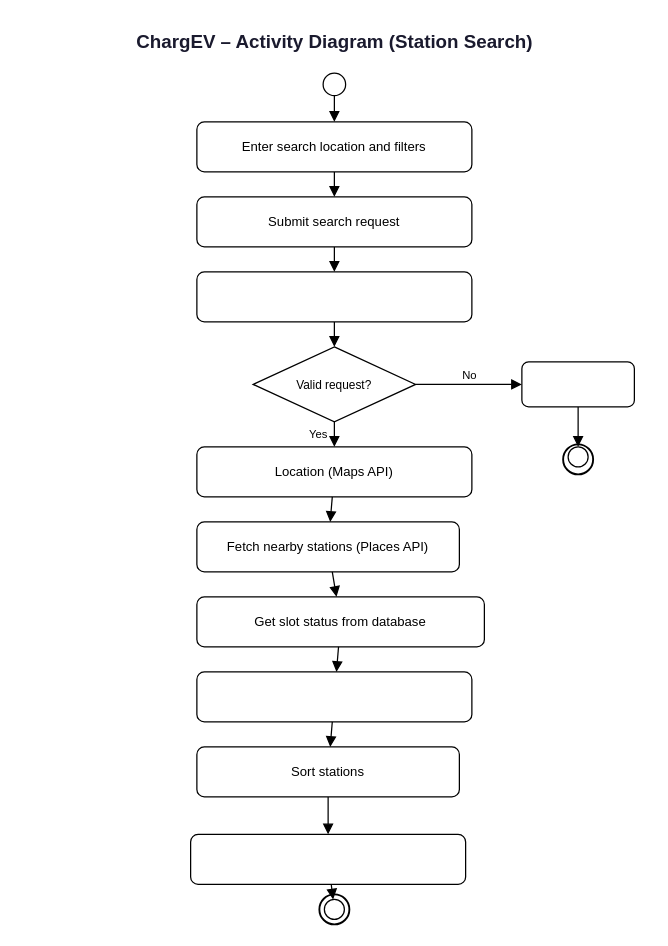
Some shapes in this 668 by 946 pixel diagram are drawn without their labels. The shapes that lost their labels are listed below. From the top down, each one's box as (x1, y1, x2, y2) in pixels, then its label:
(196, 271, 472, 322): Backend gets the request
(521, 361, 634, 407): Reject the request
(196, 671, 472, 722): Apply smart filters (distance/price)
(189, 833, 466, 884): Display results and map
